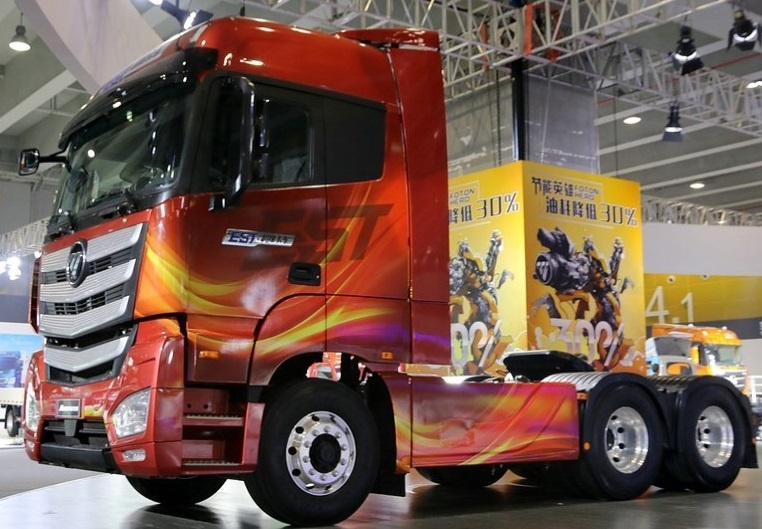heavy truck: (30, 19, 740, 501)
